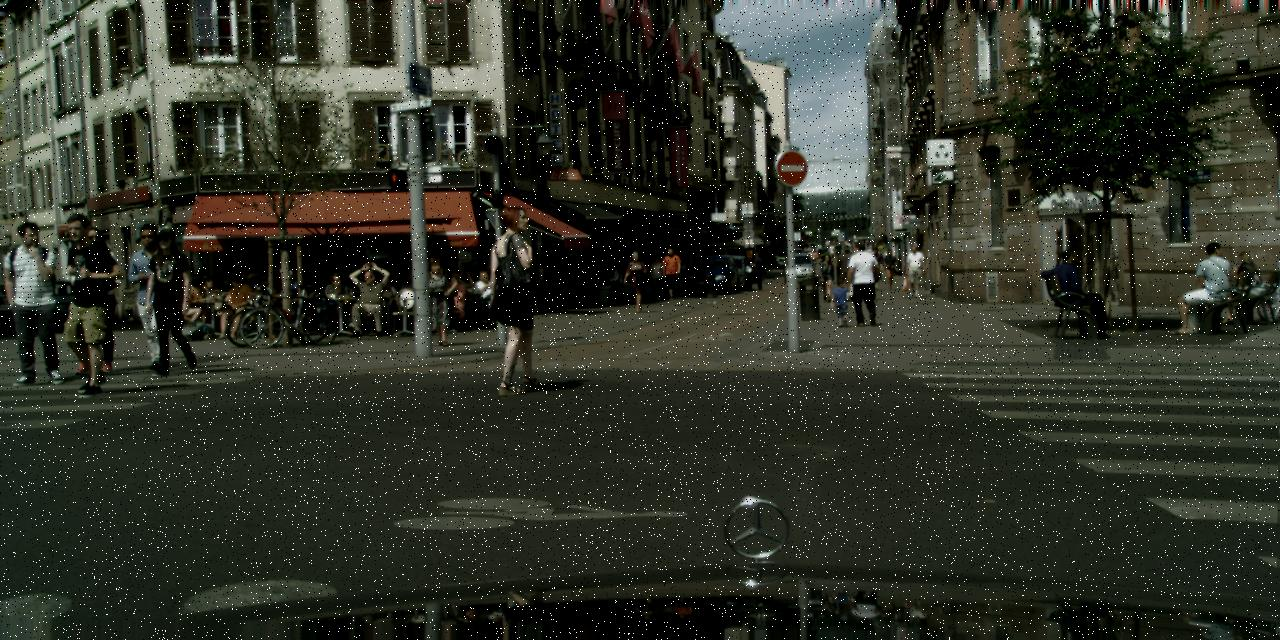ped: (482, 205, 558, 392), (44, 212, 120, 397), (2, 222, 68, 384), (124, 222, 184, 370), (63, 226, 123, 374), (144, 228, 203, 373), (419, 256, 455, 346), (846, 239, 880, 325), (624, 250, 649, 312), (836, 245, 858, 301), (903, 245, 924, 296), (660, 248, 681, 298), (832, 278, 852, 326), (816, 254, 836, 301), (247, 266, 264, 310), (647, 255, 664, 299), (867, 247, 884, 289), (881, 248, 898, 290), (387, 271, 412, 293), (748, 252, 762, 289), (453, 266, 476, 288), (675, 254, 689, 290), (842, 240, 851, 260), (811, 248, 817, 264), (828, 241, 834, 257), (864, 235, 870, 251), (816, 242, 822, 256), (824, 238, 829, 253), (835, 241, 840, 256), (847, 235, 852, 247)
